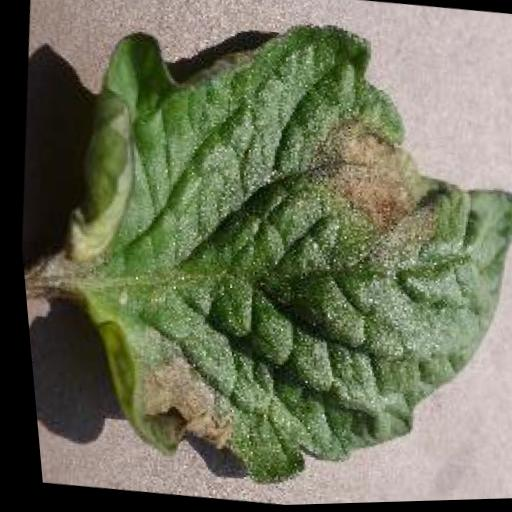Late Blight: (15, 0, 512, 512)
